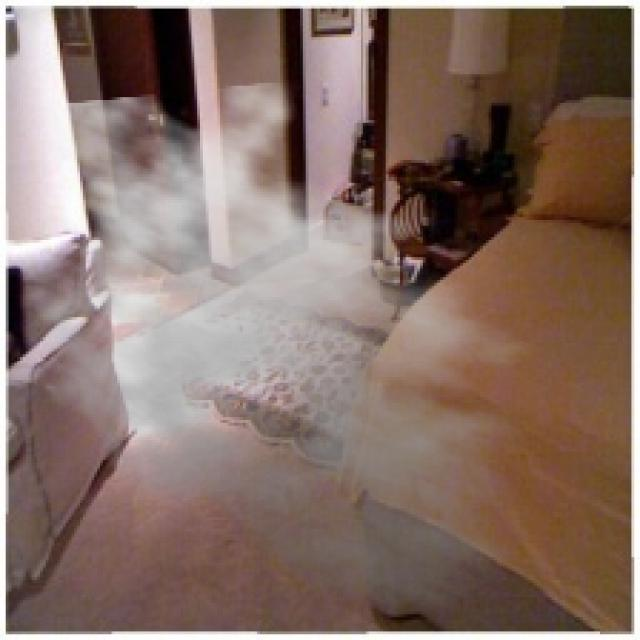smoke: (9, 80, 572, 617)
